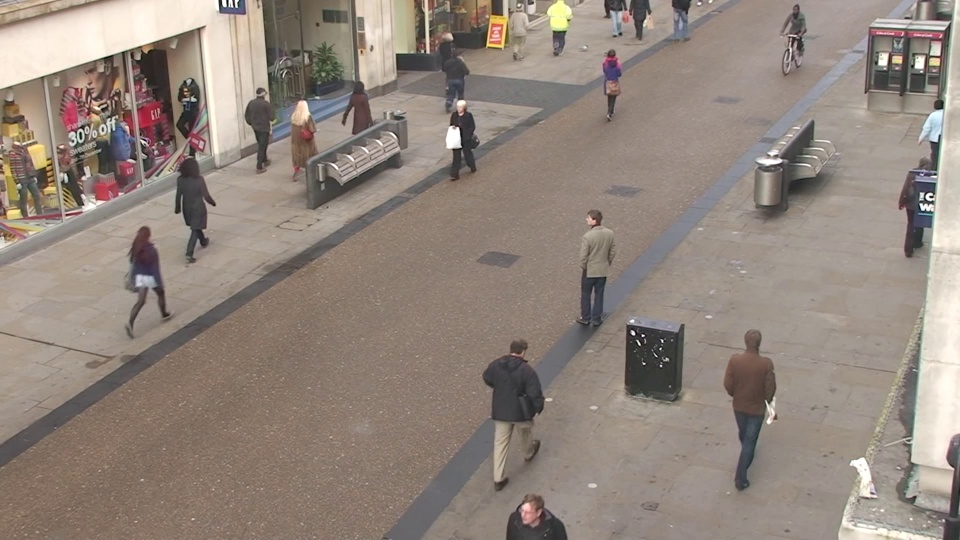pedestrian: (723, 322, 776, 472), (493, 329, 542, 480), (124, 221, 175, 342), (575, 204, 613, 324), (172, 157, 215, 262), (910, 95, 956, 190), (502, 482, 561, 540), (288, 95, 321, 184), (447, 96, 479, 186), (246, 82, 279, 167), (344, 78, 375, 162), (442, 45, 469, 120), (598, 46, 624, 123), (435, 29, 461, 100), (781, 1, 808, 68), (509, 0, 531, 63)
